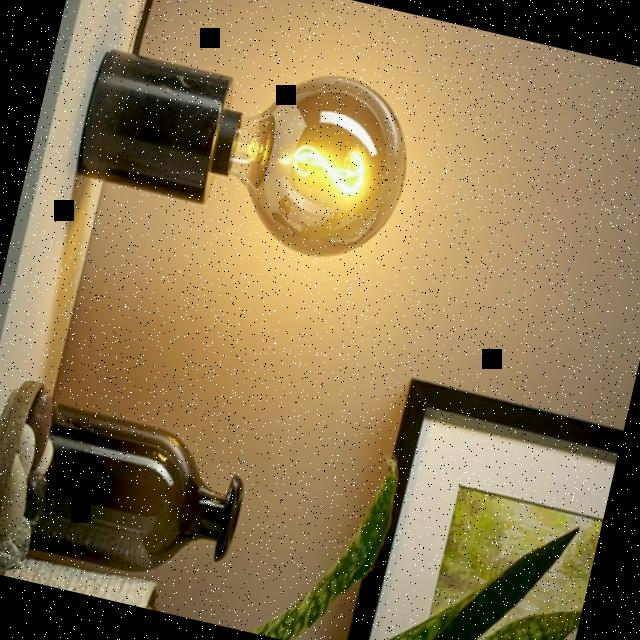light_bulb: (51, 0, 458, 287)
